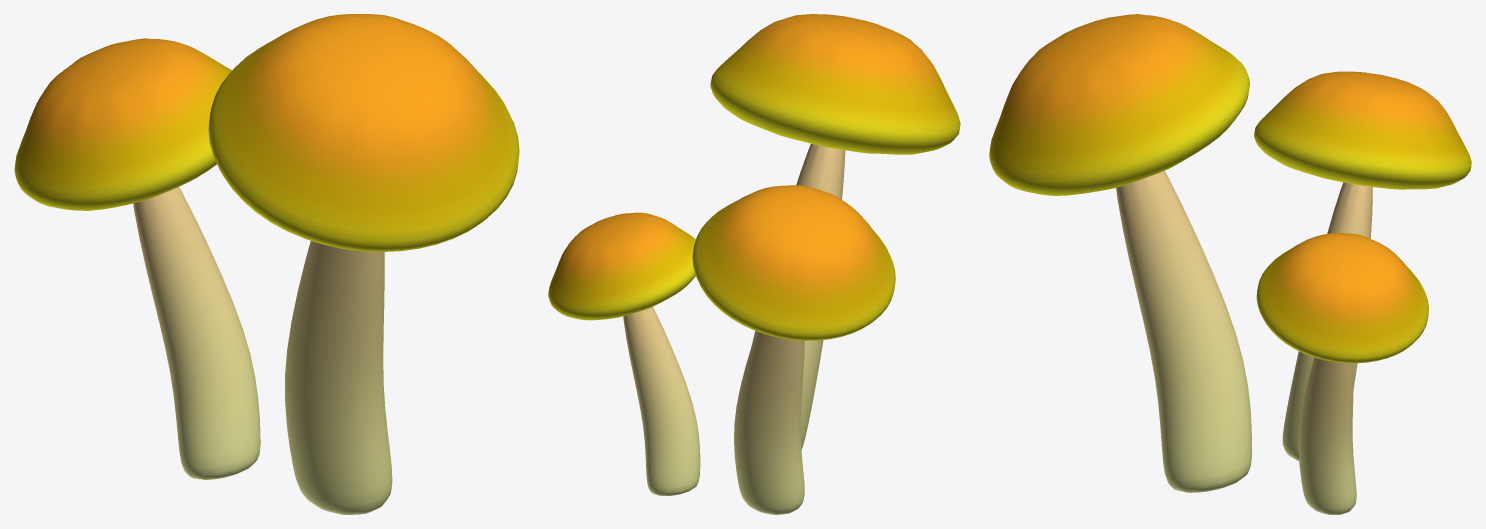
Rendered from Mushrooms3.fbx.
The picture shows the model from 3 angles, left to right: view 1: azimuth 30°, elevation 25°; view 2: azimuth 150°, elevation 25°; view 3: azimuth 270°, elevation 25°; orthographic projection. The views are drawn at different scales.
Visible parts, largest first — view 1: MushroomCap.001, MushroomCap.002, MushroomStem.001, MushroomStem.002; view 2: MushroomCap.001, MushroomCap.002, MushroomCap.003, MushroomStem.002, MushroomStem.003, MushroomStem.001; view 3: MushroomCap.001, MushroomStem.001, MushroomCap.002, MushroomCap.003, MushroomStem.003, MushroomStem.002.
Boxes of the visible parts, left/top/right/bottom form: MushroomCap.001: left=208, top=14, right=519, bottom=251; MushroomCap.002: left=14, top=38, right=231, bottom=210; MushroomStem.001: left=285, top=241, right=392, bottom=514; MushroomStem.002: left=133, top=187, right=260, bottom=479; MushroomCap.001: left=710, top=14, right=960, bottom=154; MushroomCap.002: left=692, top=185, right=895, bottom=340; MushroomCap.003: left=548, top=212, right=695, bottom=320; MushroomStem.002: left=734, top=331, right=804, bottom=514; MushroomStem.003: left=623, top=307, right=700, bottom=495; MushroomStem.001: left=751, top=144, right=845, bottom=449; MushroomCap.001: left=989, top=14, right=1249, bottom=195; MushroomStem.001: left=1116, top=171, right=1251, bottom=492; MushroomCap.002: left=1254, top=71, right=1471, bottom=189; MushroomCap.003: left=1256, top=233, right=1428, bottom=363; MushroomStem.003: left=1298, top=357, right=1356, bottom=514; MushroomStem.002: left=1282, top=182, right=1372, bottom=460.
Size of the model in its own units: 751 by 900 by 884.
